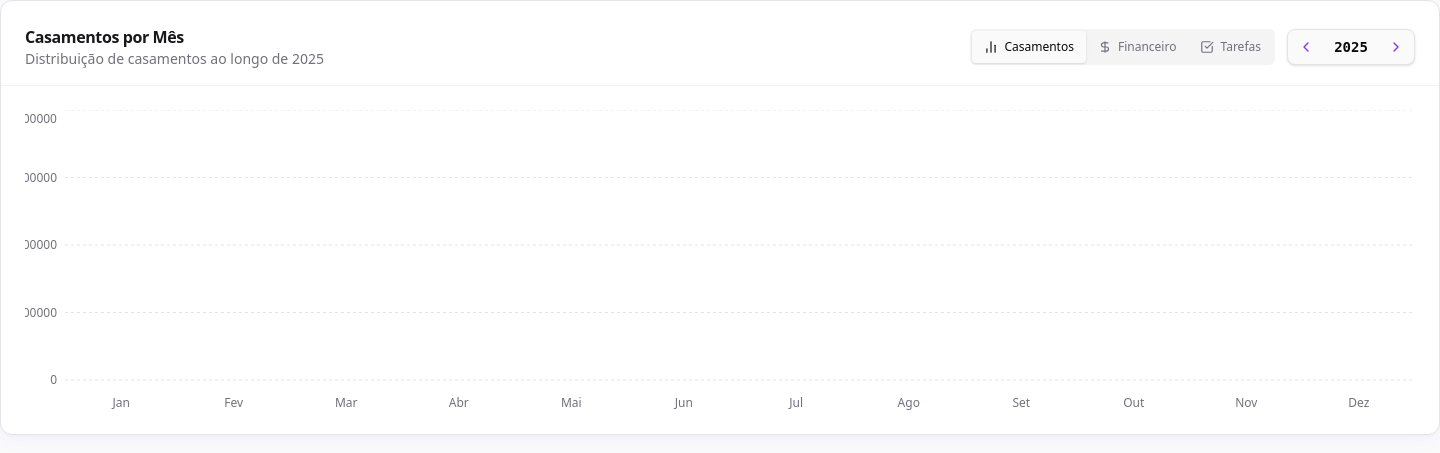
it: WeddingMonthlyChart › switches to Financeiro tab and shows expected content
Step 1. Click the tab "Financeiro" → (1137, 47), box [1086,31,1188,63]
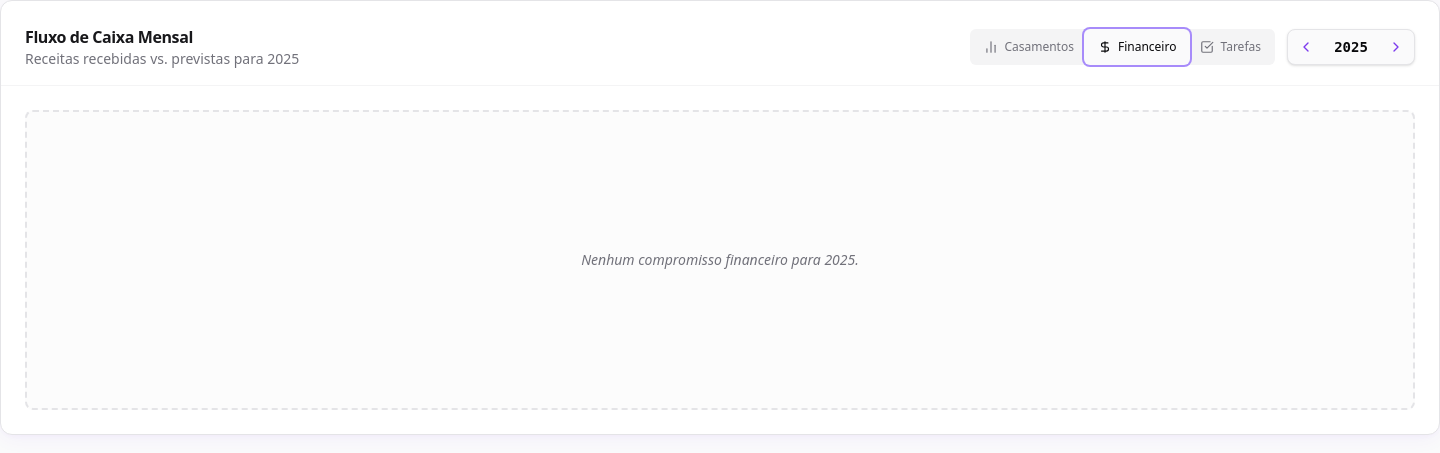
Result: the heading "Fluxo de Caixa Mensal" is shown at [25,26,193,48]
Result: the text "Receitas recebidas vs. previstas para 2025" is shown at [25,49,299,69]
